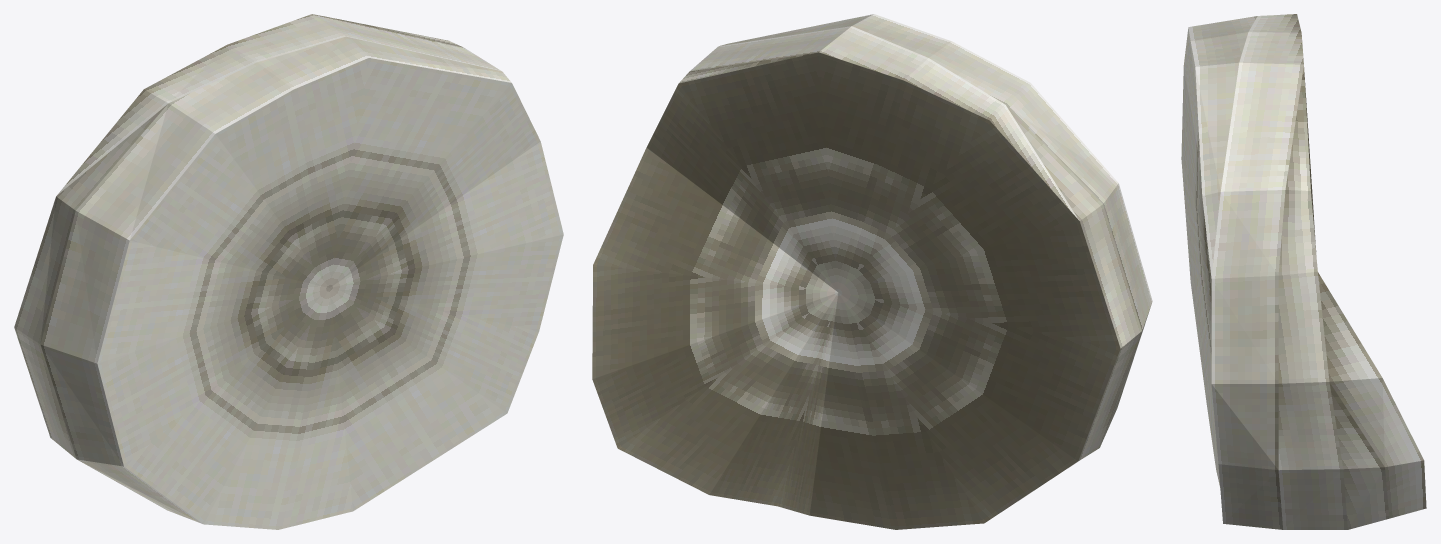
File: options202.obj
3 views of the same model, side by side, from view 1: azimuth 30°, elevation 25°; view 2: azimuth 150°, elevation 25°; view 3: azimuth 270°, elevation 25° (orthographic). The views are drawn at different scales.
Parts seen in each view (by area): view 1: options202; view 2: options202; view 3: options202.
Part boxes in pixels (left/top/right/bottom): options202: left=14, top=14, right=563, bottom=529; options202: left=592, top=14, right=1152, bottom=529; options202: left=1181, top=14, right=1426, bottom=529.
Size of the model in its own units: 0.4356 by 0.3852 by 0.1908.
Materials: 1 (1 with a texture image).
